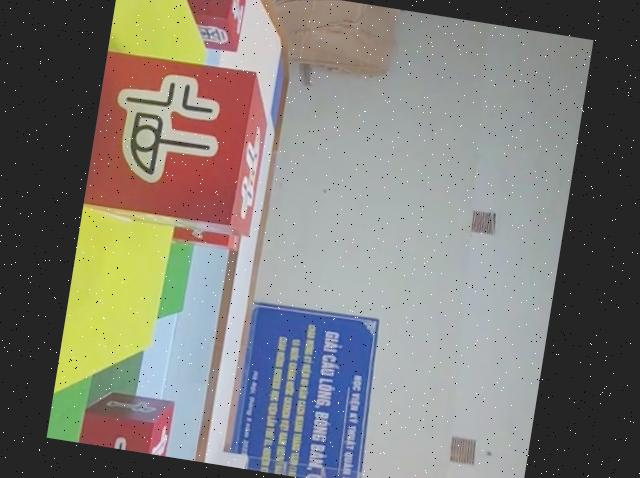R2 Fake: (154, 0, 247, 51)
R2 Real: (83, 45, 277, 238), (74, 384, 175, 457)
